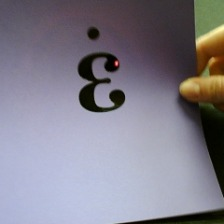violet3: (67, 23, 128, 115)
